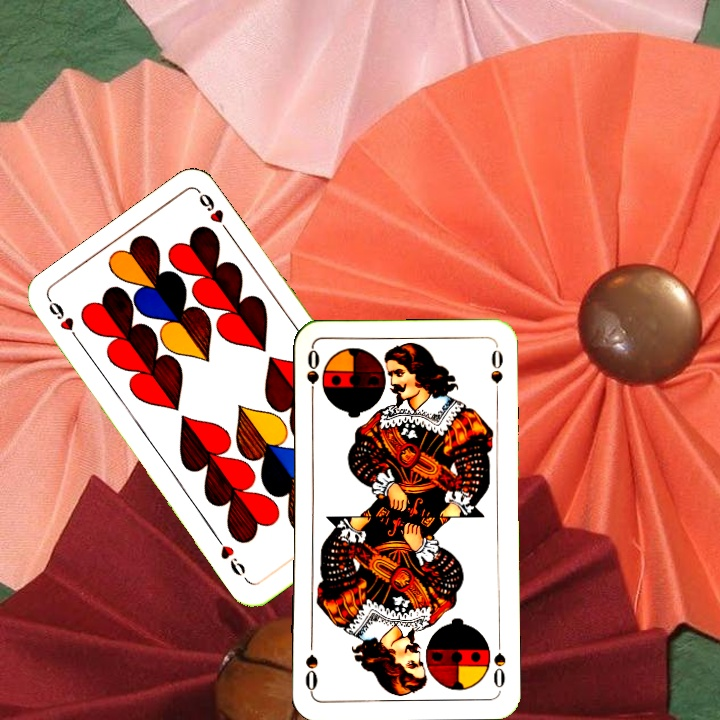H9: (44, 296, 85, 348)
SO: (302, 345, 322, 404), (489, 634, 508, 691)
